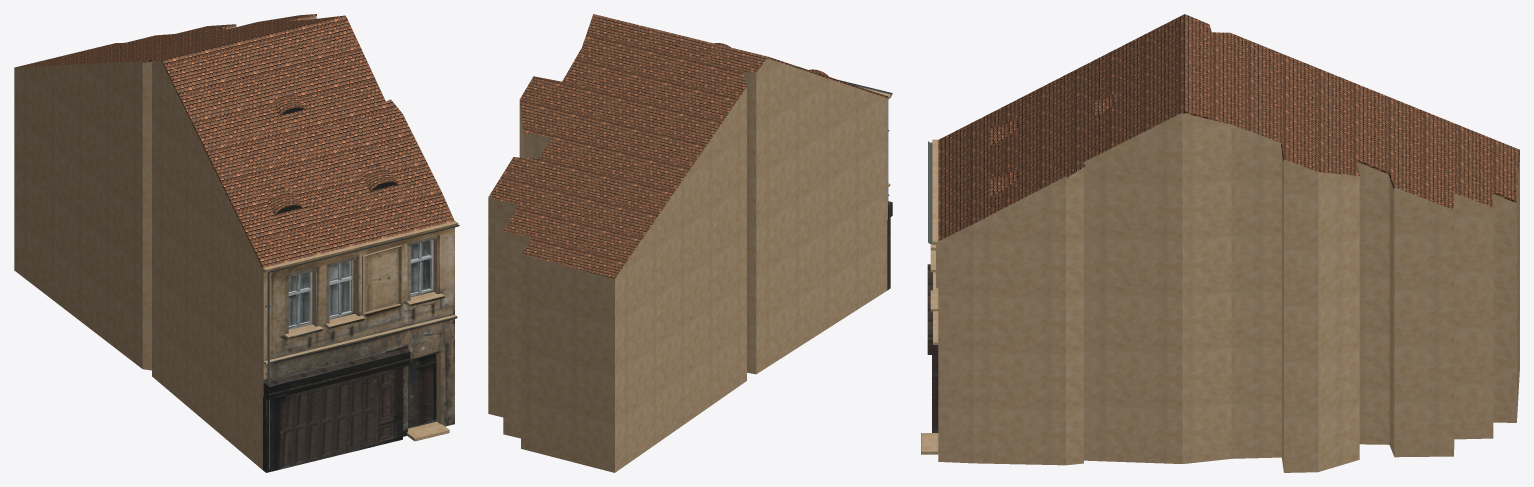
3 views of the same model, side by side, from view 1: azimuth 30°, elevation 25°; view 2: azimuth 150°, elevation 25°; view 3: azimuth 270°, elevation 25° (orthographic). The views are drawn at different scales.
Parts seen in each view (by area): view 1: Plan1965_Perimeter_Unobserved_Sides, Closed_Roof_Over_Plan_Perimeter, Front_Registered_G_Openings, Roof_End_Closures_Provisional, Closed_Timber_Shopfront, Shopfront_Cornice_Bevel_C, Photographic_Profile_Trim, Recessed_Photographic_Panes, Door_Closed_In_Recess, Window_Frame_Thickness_G, Metal_Gutters_And_Downpipe, Sills_Selected_Bevel_C (+3 smaller); view 2: Plan1965_Perimeter_Unobserved_Sides, Closed_Roof_Over_Plan_Perimeter, Roof_End_Closures_Provisional; view 3: Plan1965_Perimeter_Unobserved_Sides, Closed_Roof_Over_Plan_Perimeter, Roof_End_Closures_Provisional, Photographic_Profile_Trim.
Part boxes in pixels (box(x1,y1,x2,y2)): Plan1965_Perimeter_Unobserved_Sides: box(14, 68, 263, 469); Closed_Roof_Over_Plan_Perimeter: box(16, 14, 454, 267); Front_Registered_G_Openings: box(263, 227, 454, 436); Roof_End_Closures_Provisional: box(15, 16, 316, 265); Closed_Timber_Shopfront: box(263, 367, 402, 472); Shopfront_Cornice_Bevel_C: box(264, 348, 410, 399); Photographic_Profile_Trim: box(262, 221, 458, 364); Recessed_Photographic_Panes: box(288, 240, 429, 325); Door_Closed_In_Recess: box(408, 353, 436, 428); Window_Frame_Thickness_G: box(288, 240, 433, 329); Metal_Gutters_And_Downpipe: box(265, 225, 459, 468); Sills_Selected_Bevel_C: box(284, 293, 444, 339); Plan1965_Perimeter_Unobserved_Sides: box(488, 98, 887, 472); Closed_Roof_Over_Plan_Perimeter: box(488, 14, 887, 278); Roof_End_Closures_Provisional: box(488, 57, 885, 278); Plan1965_Perimeter_Unobserved_Sides: box(938, 151, 1519, 472); Closed_Roof_Over_Plan_Perimeter: box(938, 14, 1519, 240); Roof_End_Closures_Provisional: box(939, 112, 1518, 252); Photographic_Profile_Trim: box(932, 139, 938, 344).
Bounding box in the file's own units: 8.24 × 12 × 18.46.
8 materials, 5 textured.
